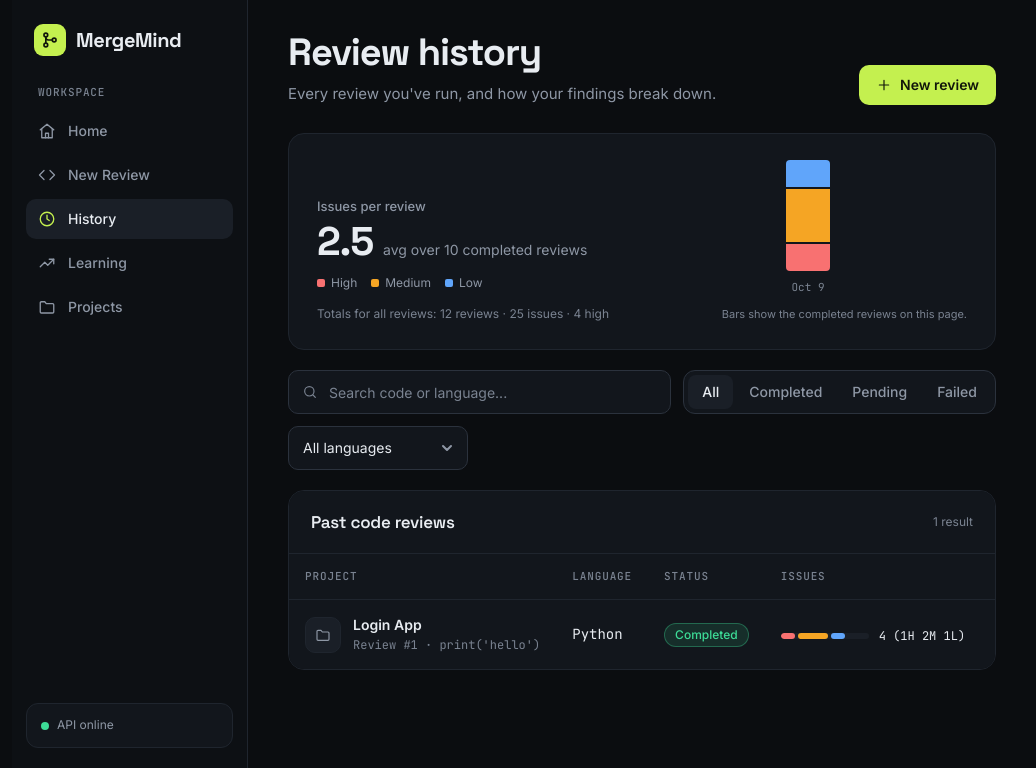
it: Review History (Stage 6) › offers only the stored language values and filters by cpp
Select "C++" in the dropdown named "Language" at (378, 448), box [288,426,468,470]
(page scrolled)
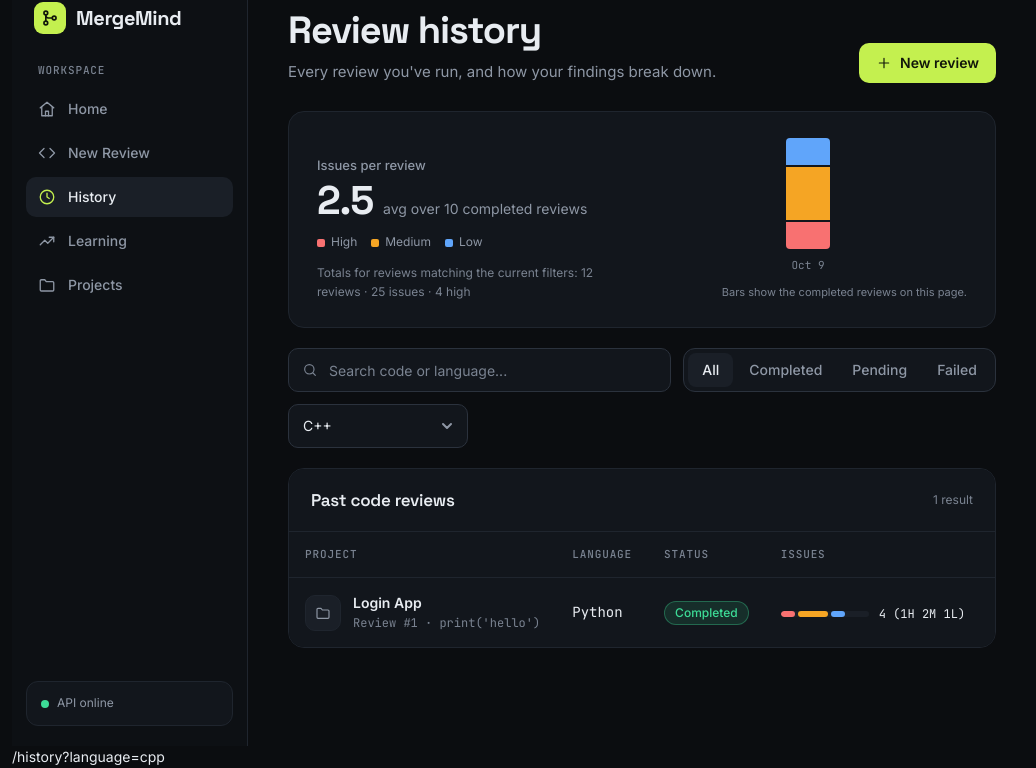
Now the text with test id "location" reads "/history?language=cpp", box [12,748,165,765]
